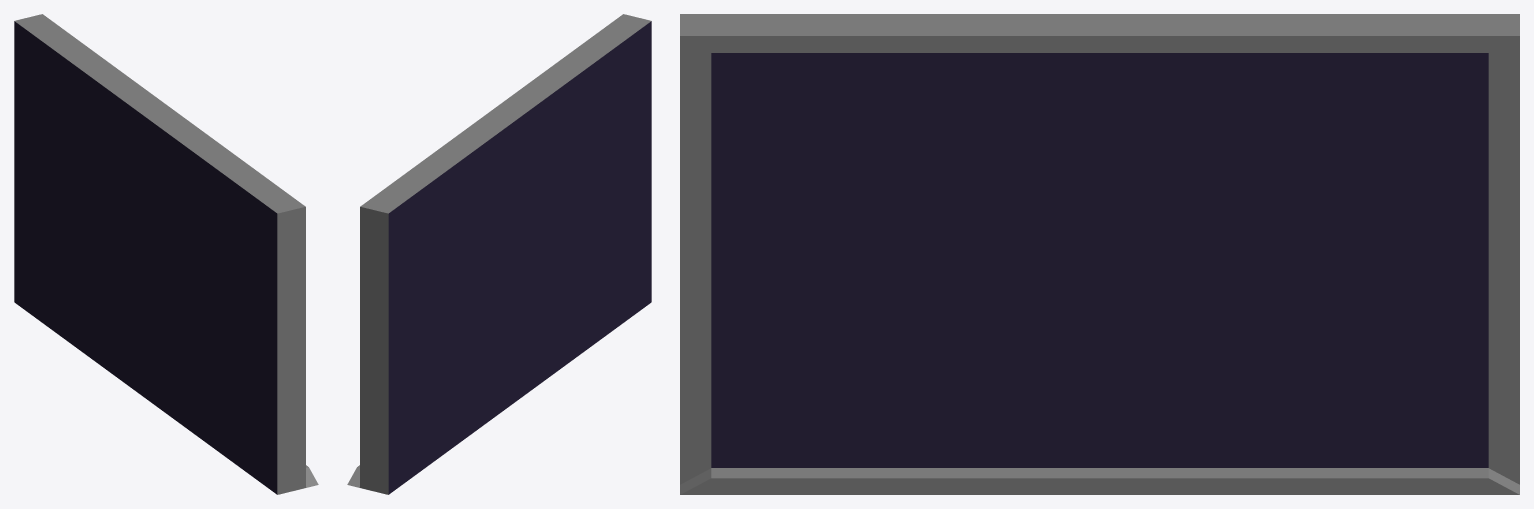
File: Chalkboard.fbx
The picture shows the model from 3 angles, left to right: view 1: azimuth 30°, elevation 25°; view 2: azimuth 150°, elevation 25°; view 3: azimuth 270°, elevation 25°; orthographic projection. The views are drawn at different scales.
Visible parts, largest first — view 1: Chalkboard; view 2: Chalkboard; view 3: Chalkboard.
Part boxes in pixels (box(x1,y1,x2,y2)): Chalkboard: box(14, 14, 318, 494); Chalkboard: box(347, 14, 651, 494); Chalkboard: box(680, 14, 1519, 494).
Size of the model in its own units: 0.4419 by 2.88 by 4.88.
